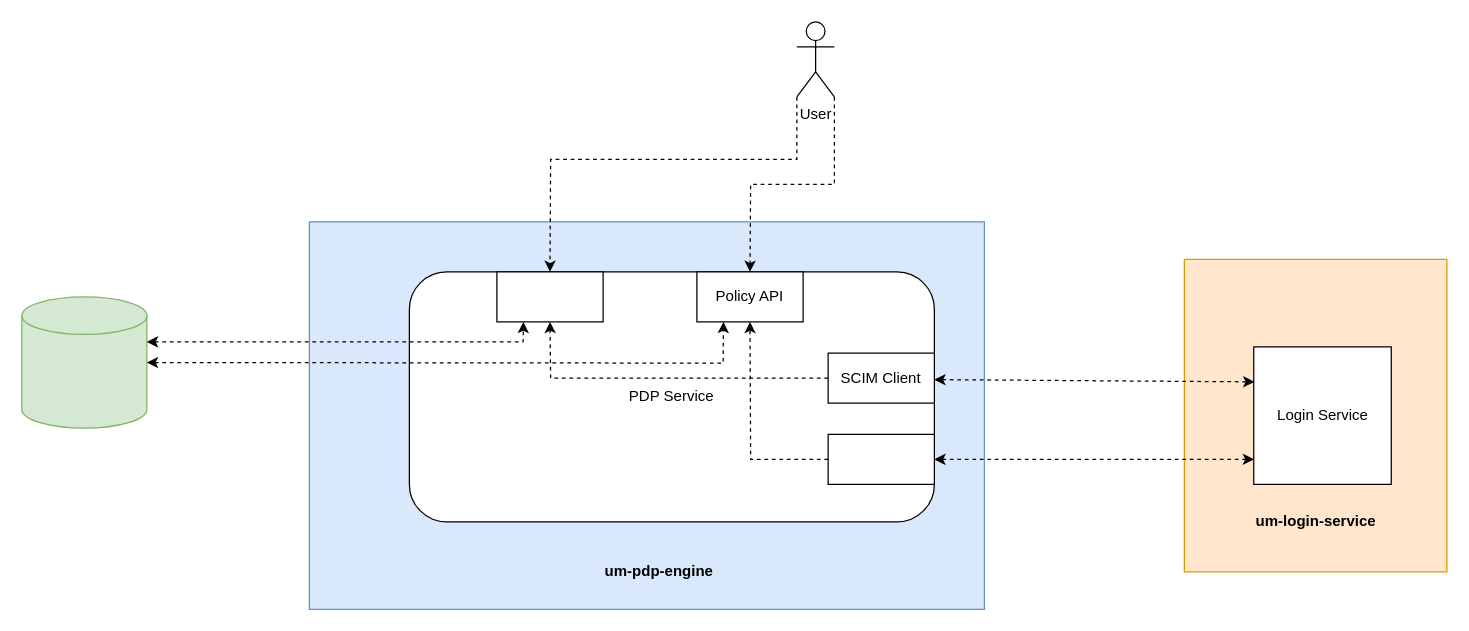
Some shapes in this 1469 by 631 pixel diagram are drawn without their labels. The centre of each missing label's shape, as x and y in pixels:
"Document-oriented database" goes at pixel 84 362.
"OIDC Client" goes at pixel 880 458.
"Policy Validation" goes at pixel 549 296.
